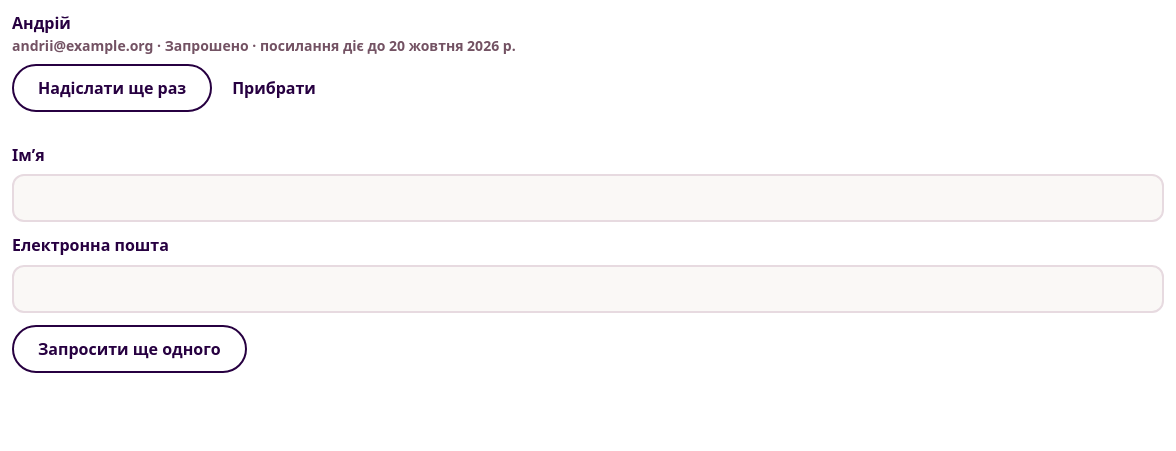
resend shows what became of the email › {"kind":"sent","blockCheck":"unknown"}
Click the button "Надіслати ще раз" at (112, 88), box [12,64,212,112]
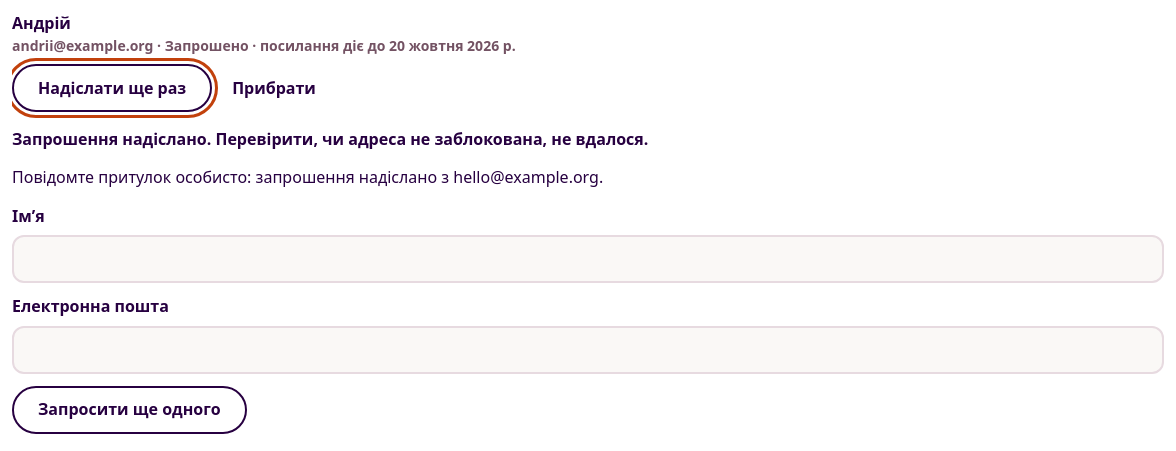
Check: the message reads "Запрошення надіслано. Перевірити, чи адреса не заблокована, не вдалося.", box [12,128,648,150]
Check: the text "Повідомте притулок особисто: запрошення надіслано з hello@example.org." is shown, box [12,166,603,188]
